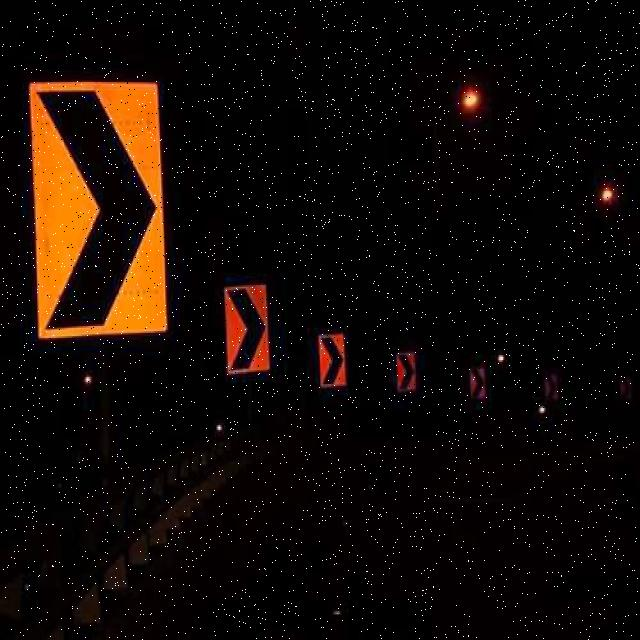chevron_right: (30, 86, 174, 337), (217, 282, 271, 378), (316, 335, 347, 394), (391, 351, 418, 395), (466, 367, 490, 405), (539, 371, 559, 401)
